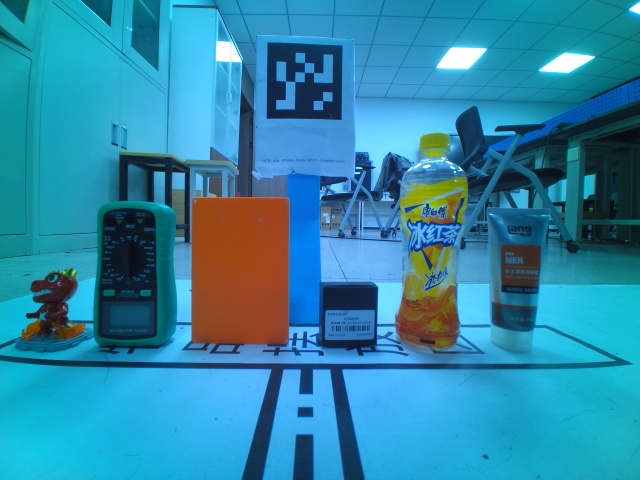banzi: (318, 280, 379, 349)
binghongcha: (14, 267, 90, 353)
dabao: (486, 206, 552, 351)
dianbiao: (393, 133, 468, 349)
hezi: (93, 201, 177, 347)
long: (190, 196, 291, 345)
